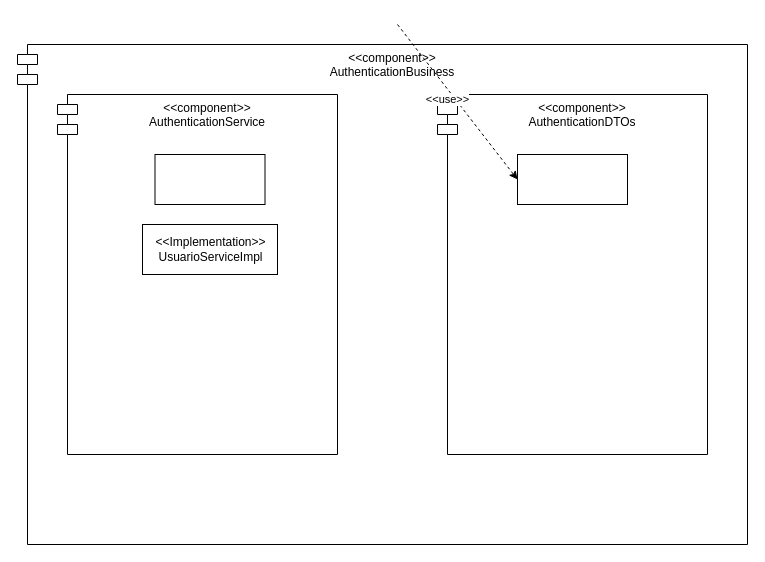
Image size: 765x562. Some labels were removed from this diagram. Here are the shapes that lost their labels. From the top down, the box of each, then its label:
(154, 154, 265, 204): <<Interface>> UsuarioService
(516, 154, 628, 204): <<DTO>> Usuario
